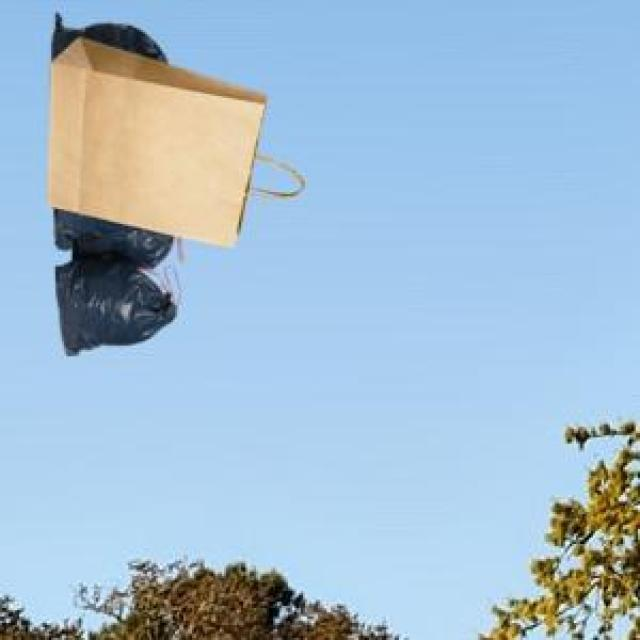miscellaneous trash: (50, 11, 173, 352)
paper: (43, 34, 269, 243)
